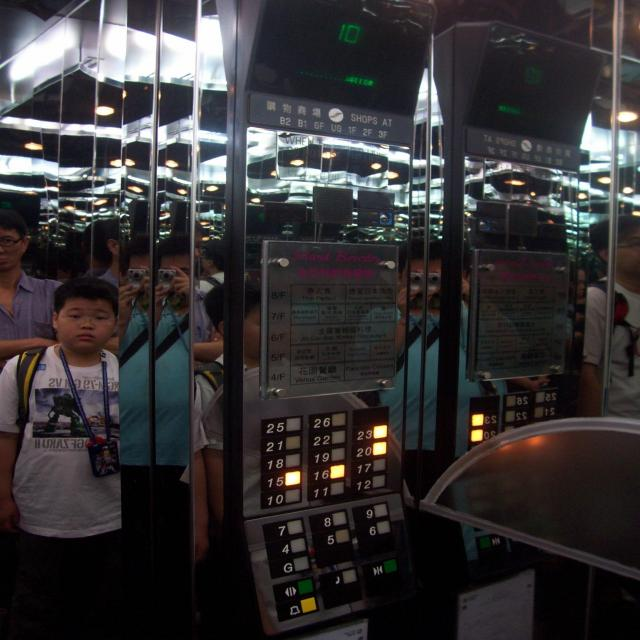10: (258, 486, 305, 509)
11: (306, 480, 348, 501)
12: (348, 473, 389, 492)
15: (258, 469, 304, 490)
16: (305, 462, 348, 484)
17: (348, 456, 389, 476)
18: (258, 452, 304, 472)
19: (306, 446, 348, 465)
20: (348, 440, 389, 459)
21: (259, 432, 304, 454)
22: (306, 428, 348, 448)
23: (350, 423, 390, 442)
25: (259, 414, 304, 436)
26: (306, 409, 349, 431)
4: (263, 536, 311, 558)
5: (310, 526, 353, 548)
6: (355, 520, 394, 541)
7: (260, 517, 308, 539)
8: (307, 508, 350, 530)
9: (351, 500, 391, 524)
G: (264, 554, 312, 576)
alarm: (274, 597, 319, 619)
call: (317, 566, 359, 590)
close: (363, 557, 401, 578)
open: (271, 577, 316, 601)
